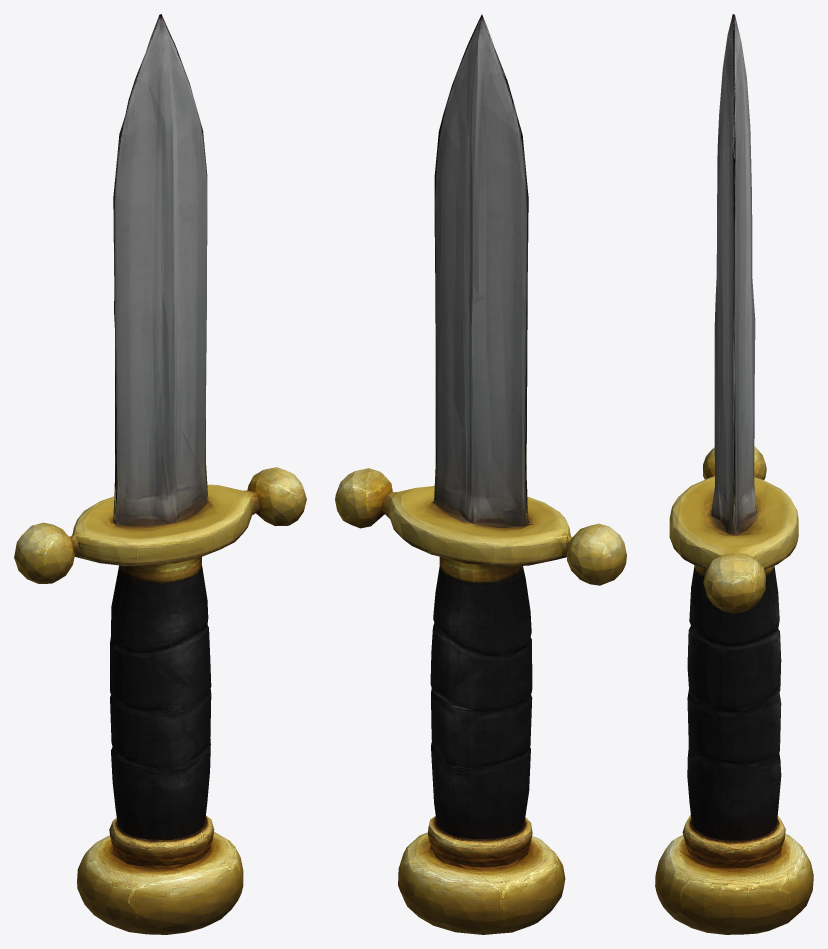
Rendered from item_dagger.glb.
3 renders of one model, left to right at view 1: azimuth 30°, elevation 25°; view 2: azimuth 150°, elevation 25°; view 3: azimuth 270°, elevation 25°, orthographic.
Visible parts, largest first — view 1: world; view 2: world; view 3: world.
Boxes of the visible parts, bbox=[...] form: world: bbox=[14, 14, 306, 934]; world: bbox=[335, 14, 626, 934]; world: bbox=[655, 14, 813, 934].
Size of the model in its own units: 0.3298 by 1 by 0.16.
1 material, 1 textured.
